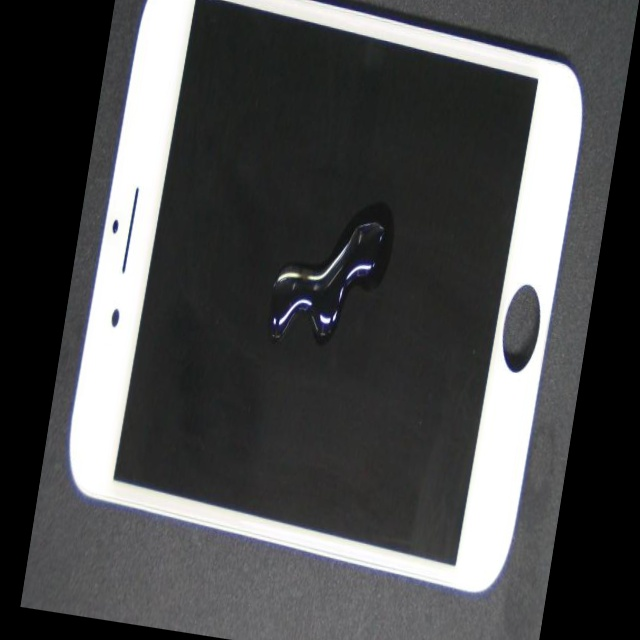oil: (127, 136, 420, 550)
